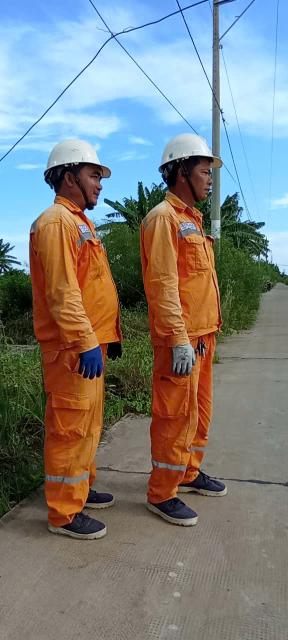gloves: (71, 345, 106, 384), (167, 336, 197, 371), (101, 335, 129, 362)
helmet: (34, 129, 119, 180), (152, 121, 224, 179)
shoes: (141, 488, 205, 530), (58, 471, 119, 514), (185, 455, 232, 504), (45, 511, 114, 543)
